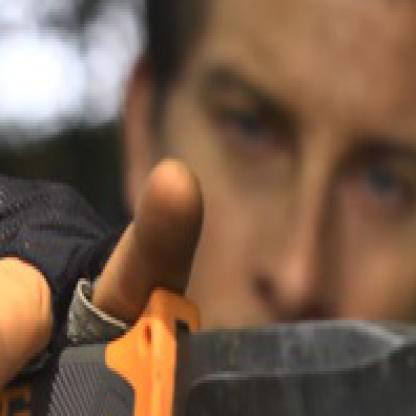knife: (0, 281, 414, 413)
